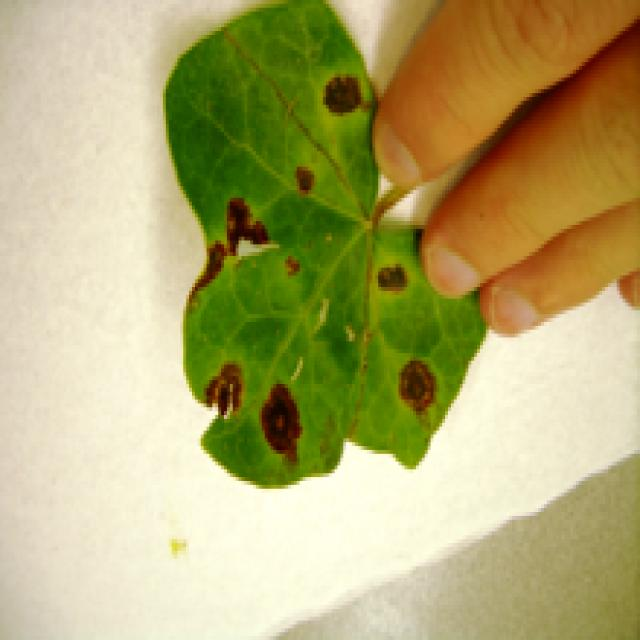Bacterial Blight: (184, 52, 430, 462)
